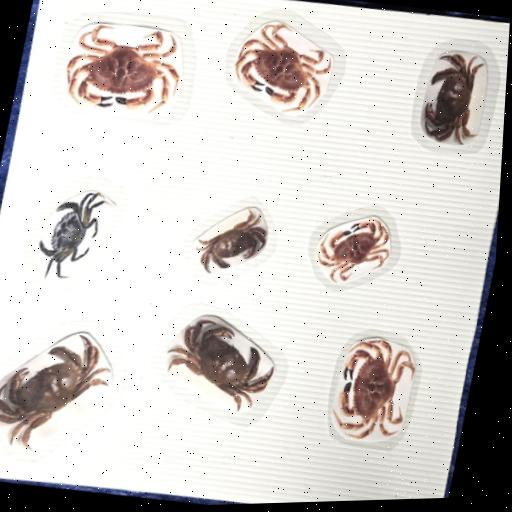European green crab: (27, 183, 120, 287)
John Crab: (58, 12, 197, 124), (219, 10, 351, 125), (320, 334, 425, 452), (304, 212, 410, 291)
Native rock crab: (0, 315, 126, 470), (155, 300, 308, 422), (406, 29, 509, 164), (183, 201, 286, 284)
